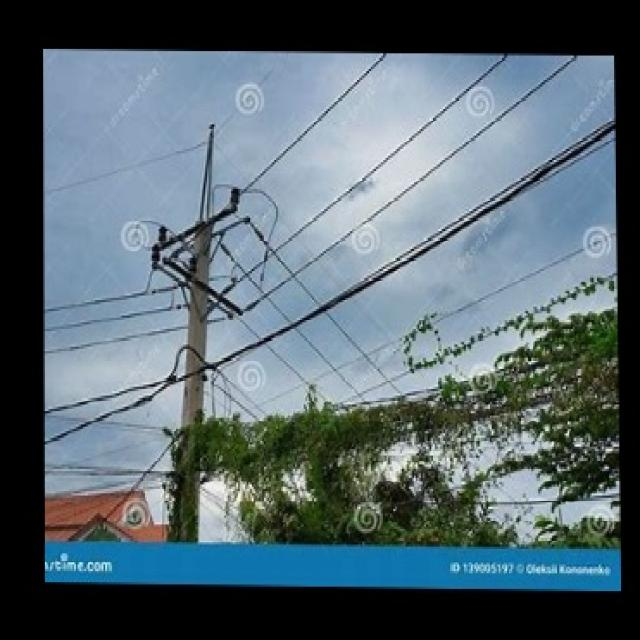critical vegetation: (183, 370, 619, 522)
